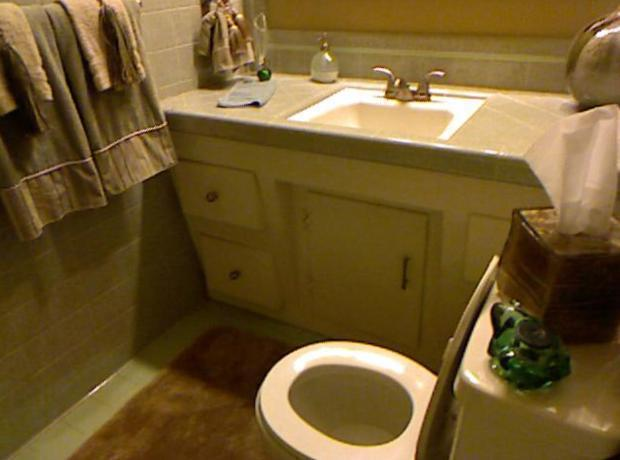Lavamanos: (270, 52, 495, 167)
Sanitario: (247, 254, 617, 454)
